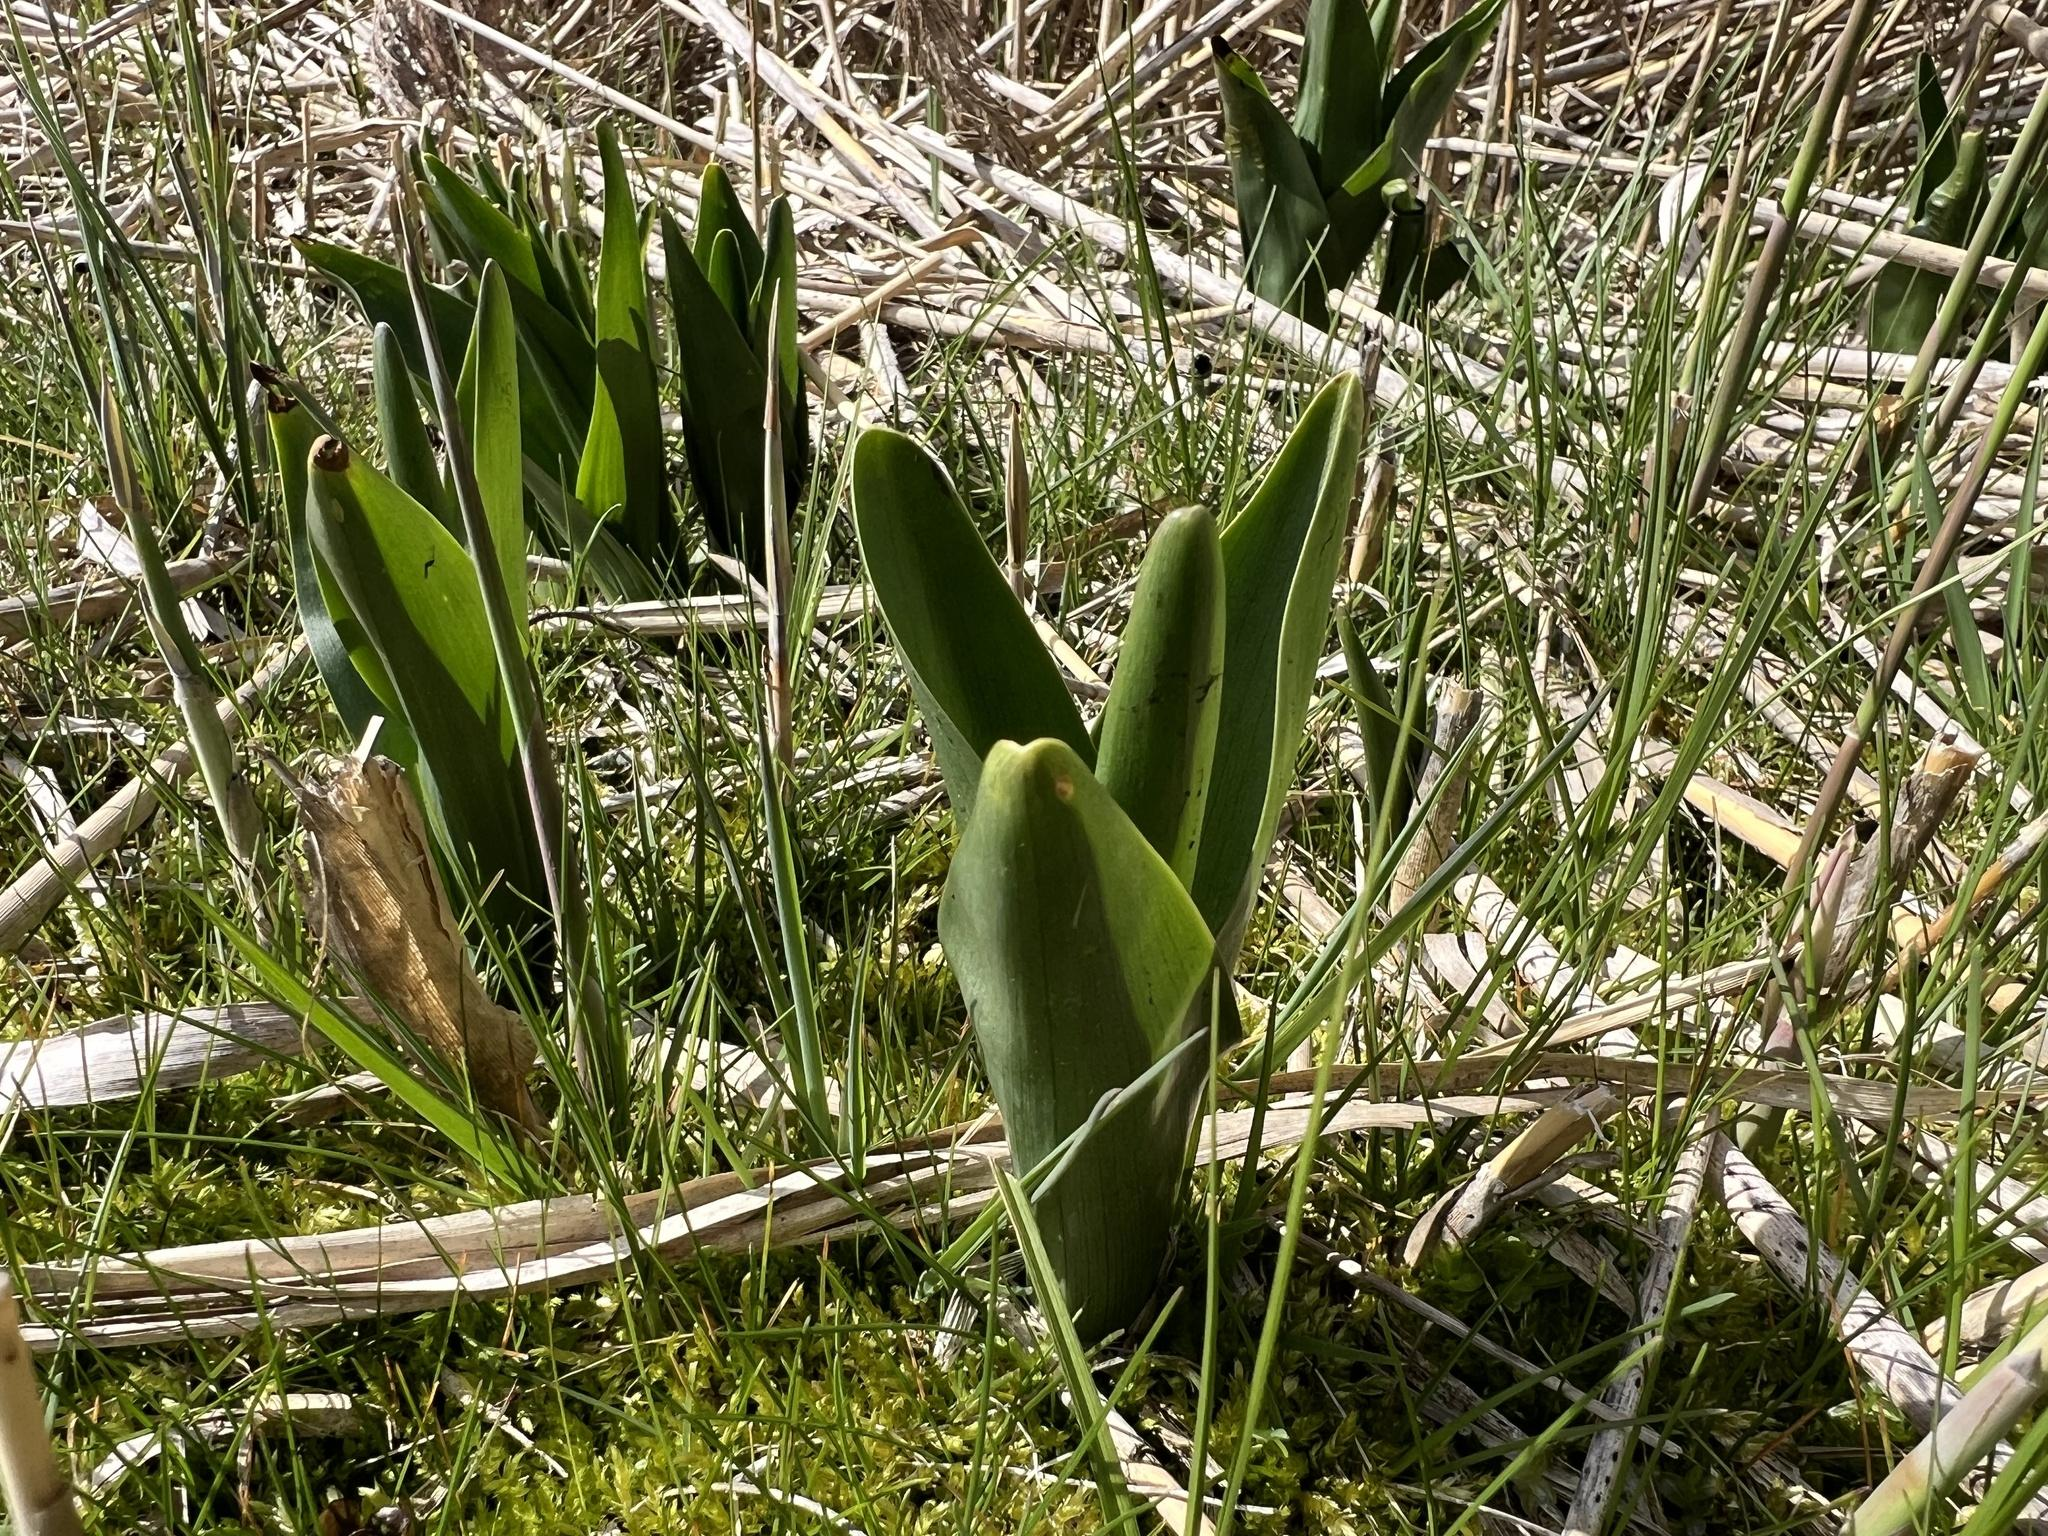Colchicum autumnale L: (832, 416, 1430, 1363), (250, 355, 632, 1044), (426, 105, 656, 591), (1208, 0, 1476, 305), (661, 147, 853, 561)
